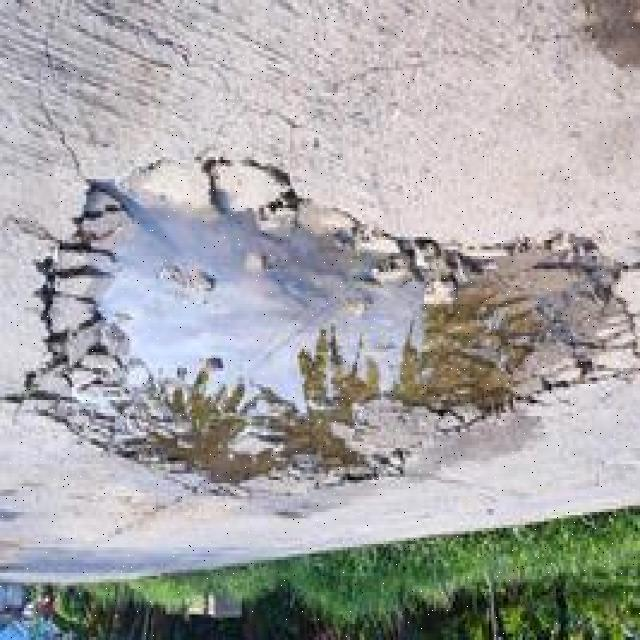road collapse: (0, 79, 640, 580)
